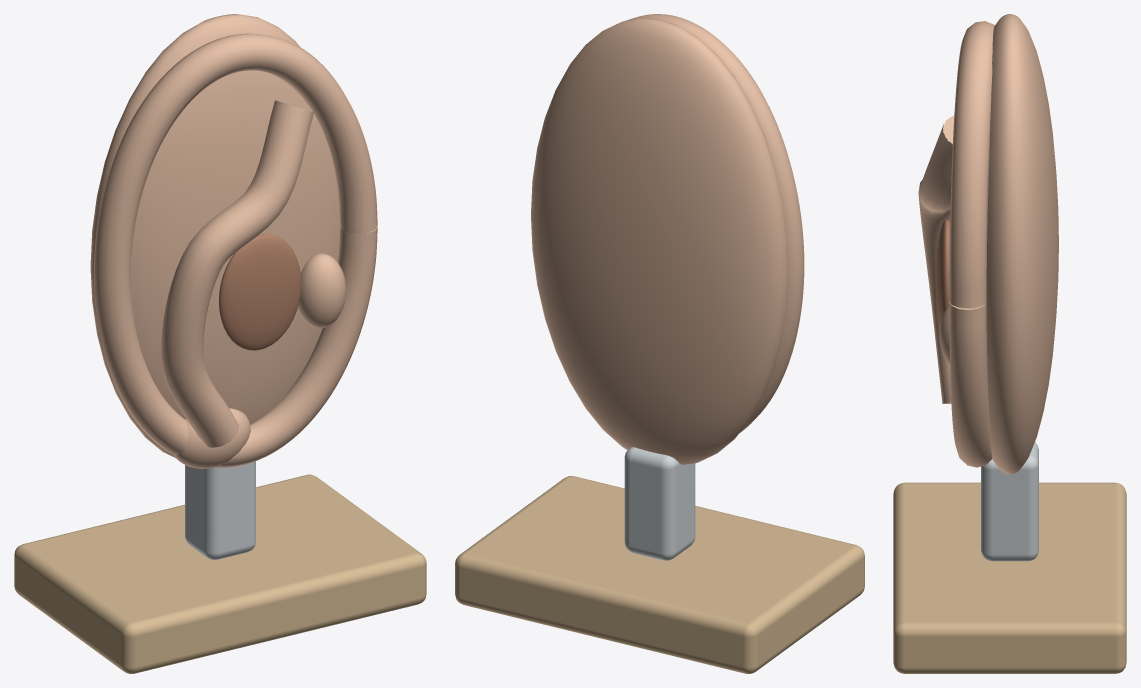
File: hearing-aid-and-audiology-clinic-enlarged-ear-display--1d428a6d__31746.glb
The picture shows the model from 3 angles, left to right: view 1: azimuth 30°, elevation 25°; view 2: azimuth 150°, elevation 25°; view 3: azimuth 270°, elevation 25°; orthographic projection.
Parts seen in each view (by area): view 1: enlarged-ear-display-model; view 2: enlarged-ear-display-model; view 3: enlarged-ear-display-model.
Boxes of the visible parts, box(x1,y1,x2,y2) form: enlarged-ear-display-model: box(14, 14, 426, 673); enlarged-ear-display-model: box(455, 14, 864, 673); enlarged-ear-display-model: box(893, 14, 1126, 673).
Bounding box in the file's own units: 0.15 × 0.275 × 0.1.
